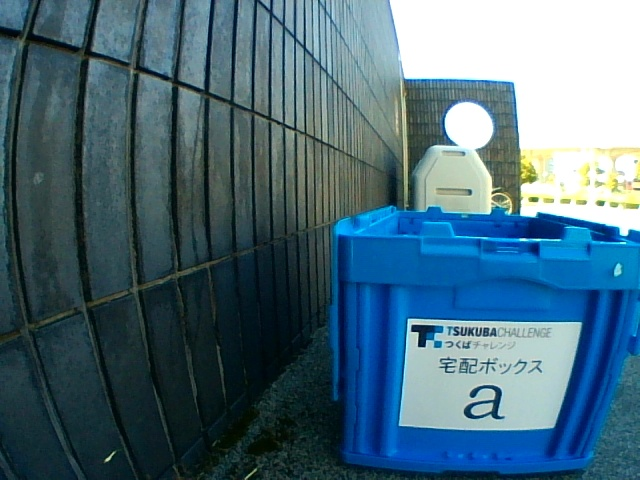blue_box: (331, 206, 640, 474)
tag_a: (411, 324, 554, 424)
